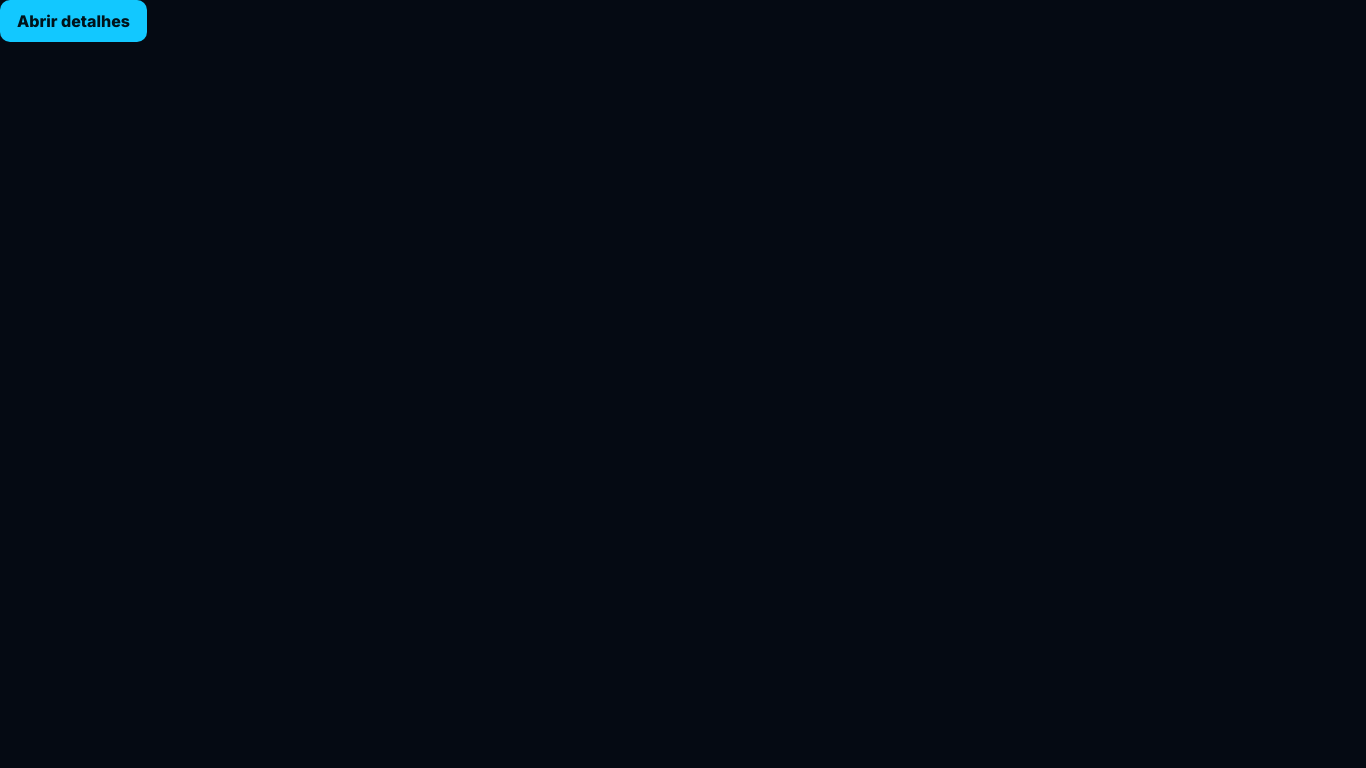
it: componentes do Design System ATS 2.0 › Drawer expõe nome acessível e fecha pelo controle visível
This screenshot has width=1366, height=768.
Click the button "Abrir detalhes" at (73, 21), box x1=0 y1=0 x2=147 y2=42
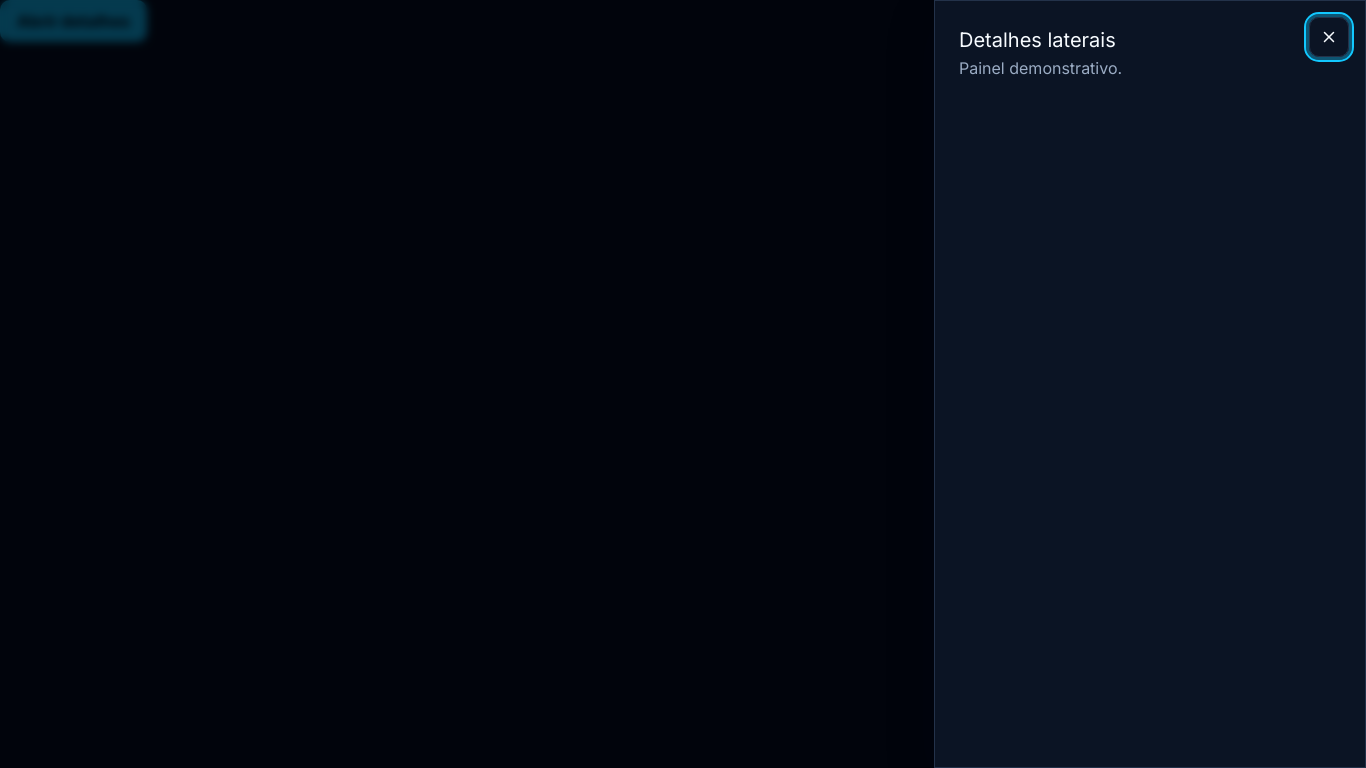
Now the dialog "Detalhes laterais" is shown, box x1=934 y1=0 x2=1365 y2=767
Click the button named "Fechar painel" at (1329, 37), box x1=1309 y1=17 x2=1349 y2=57
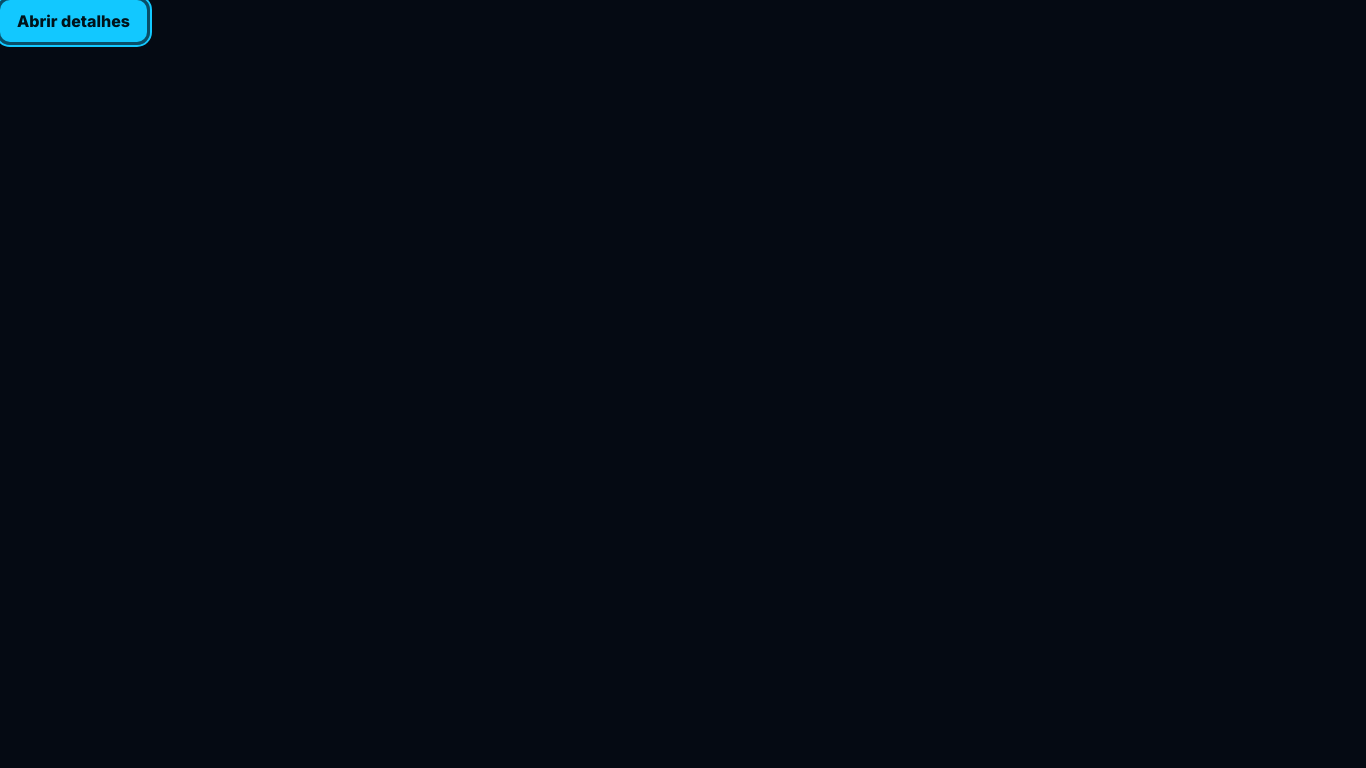
Now the heading "Detalhes laterais" is gone
